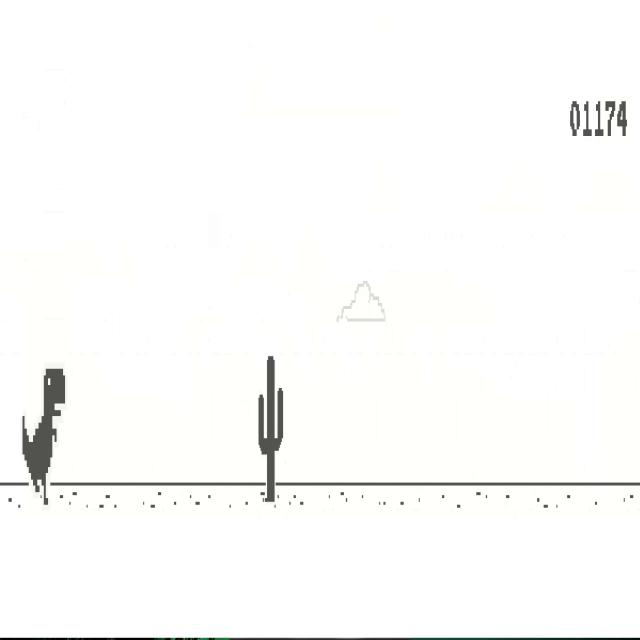cacto: (257, 352, 284, 503)
dino: (21, 366, 66, 506)
